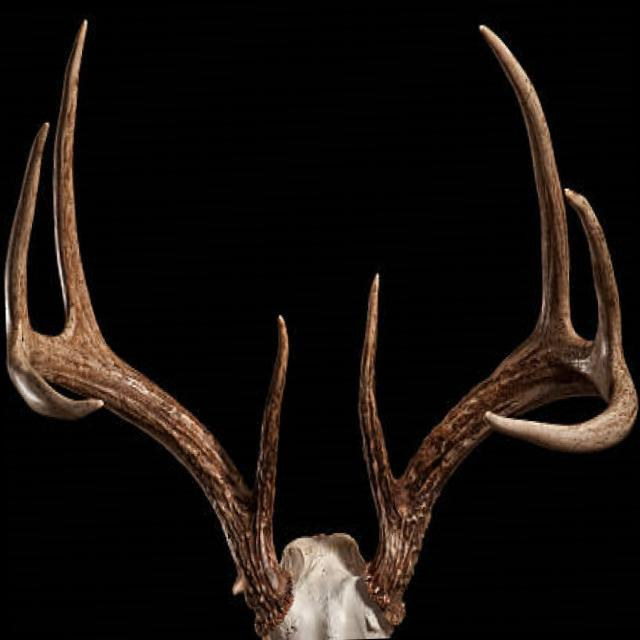E1: (231, 576, 246, 595)
L-G1: (357, 271, 397, 536)
L-G2: (478, 21, 572, 331)
L-G3: (563, 186, 623, 356)
R-F: (6, 333, 295, 637)
R-G1: (252, 312, 289, 533)
R-G2: (52, 18, 103, 340)
R-G3: (4, 121, 50, 341)
